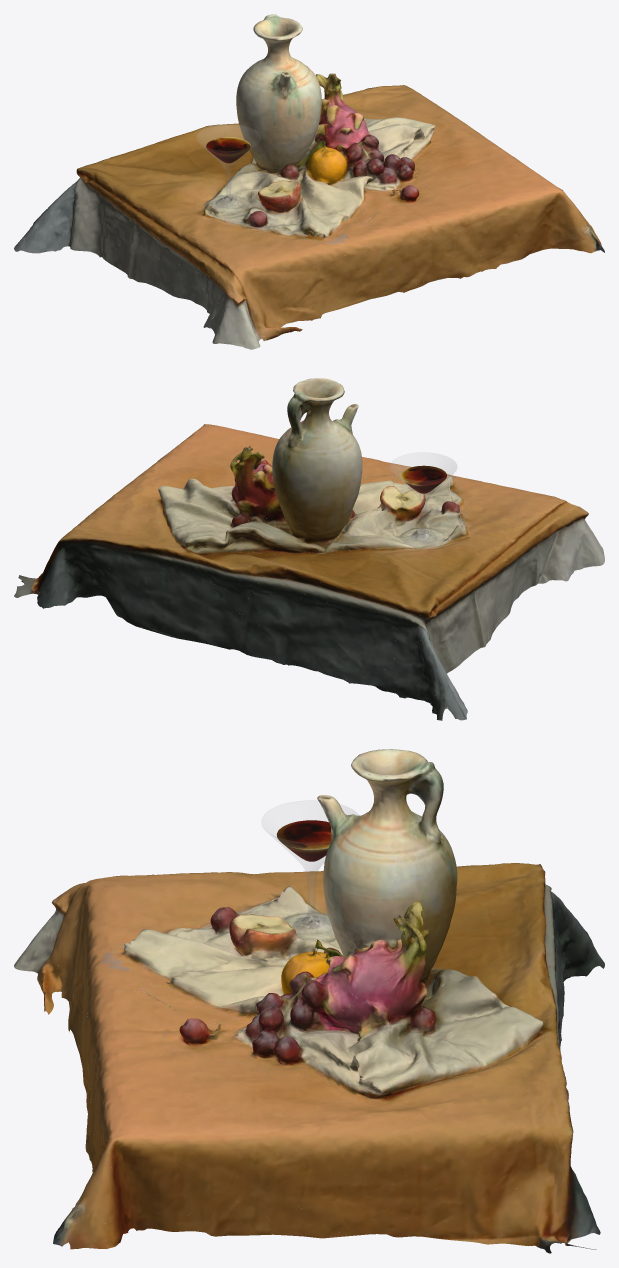
File: 静物系列_陶罐水果01_opt.glb
3 renders of one model, top to bottom at view 1: azimuth 30°, elevation 25°; view 2: azimuth 150°, elevation 25°; view 3: azimuth 270°, elevation 25°, orthographic. The views are drawn at different scales.
Parts seen in each view (by area): view 1: gujkj2defaultMat, gujkj2defaultMat_1, gujkj2initialShadingGroup, gujkj2defaultMat2; view 2: gujkj2defaultMat, gujkj2defaultMat_1, gujkj2initialShadingGroup, gujkj2defaultMat2; view 3: gujkj2defaultMat, gujkj2defaultMat_1, gujkj2initialShadingGroup, gujkj2defaultMat2.
Boxes of the visible parts, bbox=[...] form: gujkj2defaultMat: bbox=[14, 14, 604, 349]; gujkj2defaultMat_1: bbox=[33, 17, 601, 343]; gujkj2initialShadingGroup: bbox=[197, 125, 260, 198]; gujkj2defaultMat2: bbox=[206, 137, 250, 163]; gujkj2defaultMat: bbox=[14, 378, 604, 720]; gujkj2defaultMat_1: bbox=[22, 381, 602, 718]; gujkj2initialShadingGroup: bbox=[390, 453, 456, 531]; gujkj2defaultMat2: bbox=[400, 465, 446, 493]; gujkj2defaultMat: bbox=[14, 749, 604, 1253]; gujkj2defaultMat_1: bbox=[25, 753, 603, 1252]; gujkj2initialShadingGroup: bbox=[262, 801, 358, 917]; gujkj2defaultMat2: bbox=[276, 820, 331, 861].
Bounding box in the file's own units: 1.22 × 0.6 × 0.9239.
3 materials, 2 textured.
